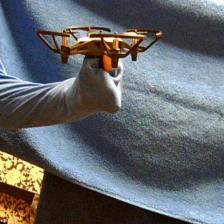drone: (37, 23, 162, 68)
